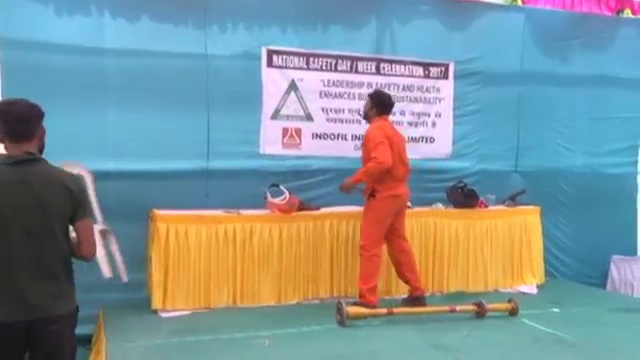helmet_off: (1, 98, 47, 165), (362, 89, 394, 125)
person: (1, 98, 95, 359), (341, 89, 427, 307)
